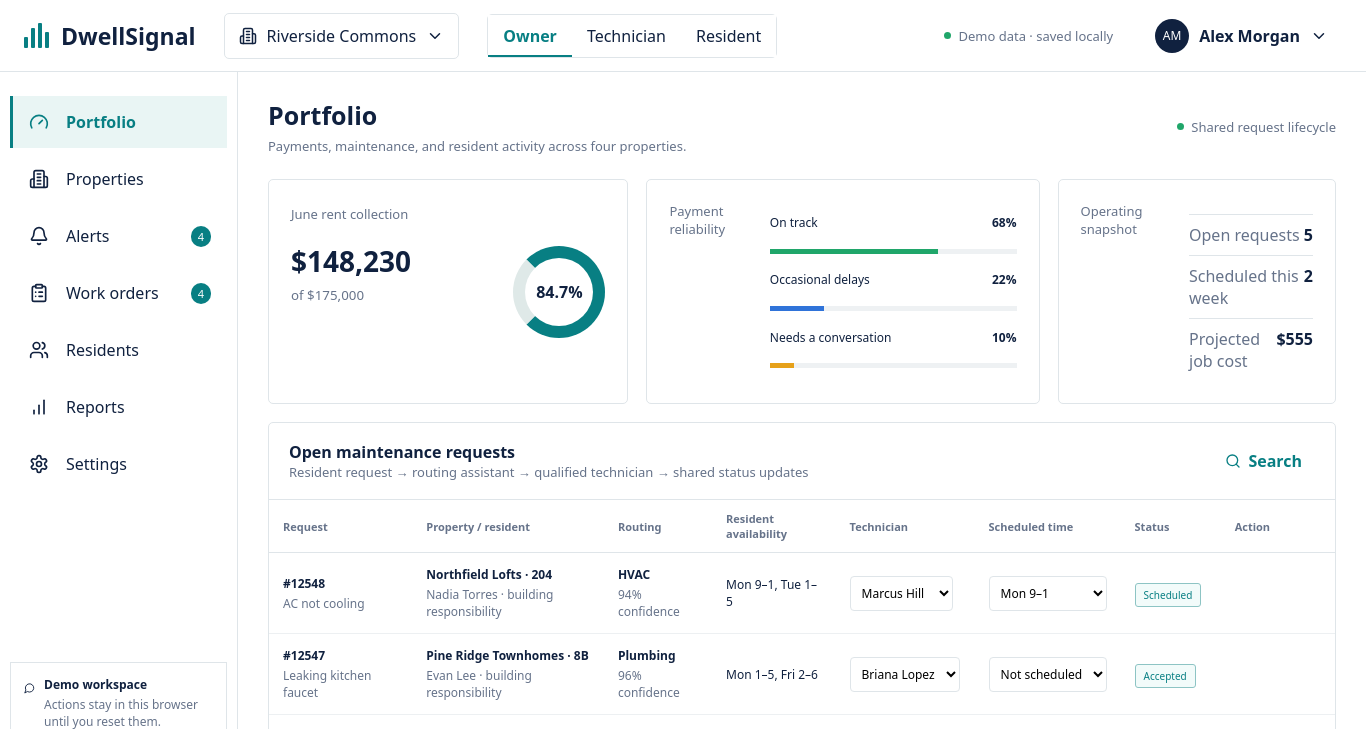
DwellSignal › switches to the technician portal
Click the button "technician": x=626, y=36 [572,14,681,56]
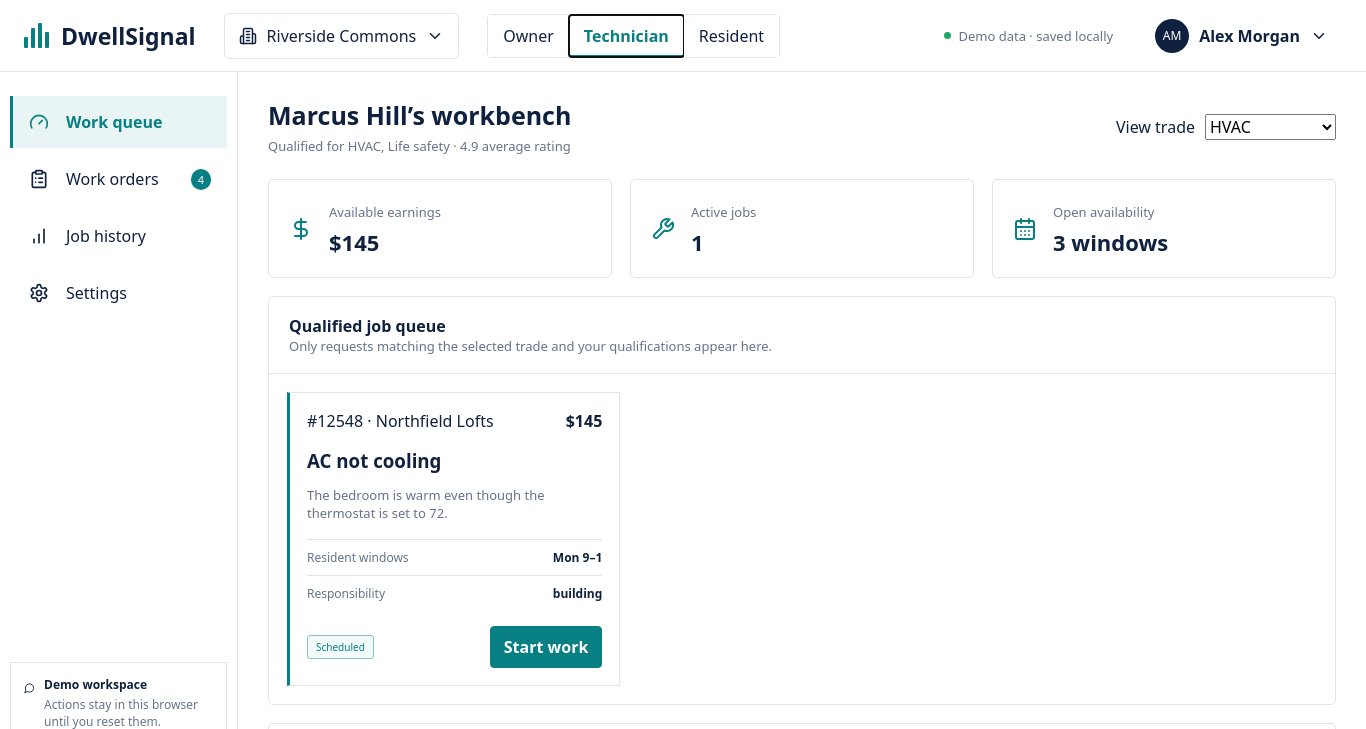
Check: the heading "Marcus Hill’s workbench" is shown, box [268,98,571,132]
Check: the heading "Qualified job queue" is shown, box [289,315,446,337]
